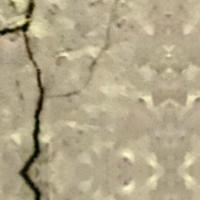crack: (0, 0, 56, 199)
